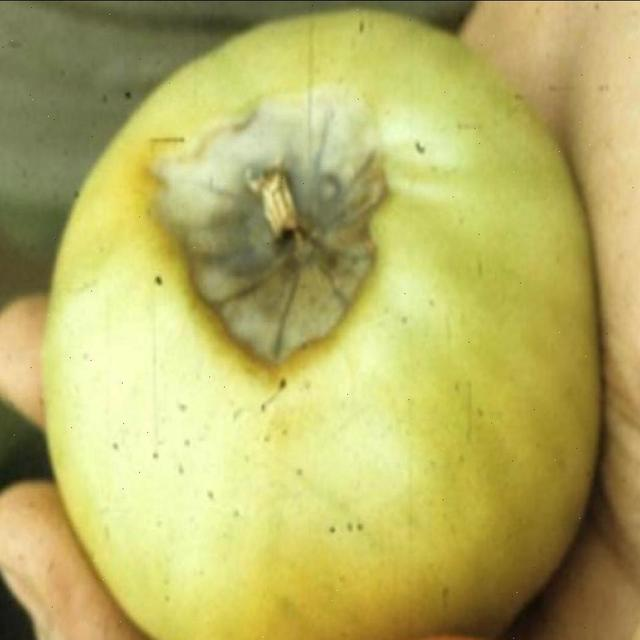Blossom End Rot Fruit: (104, 62, 260, 244)
